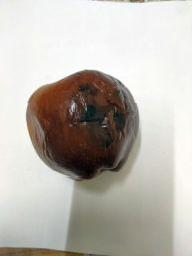Apple Rotten: (26, 70, 140, 178)
